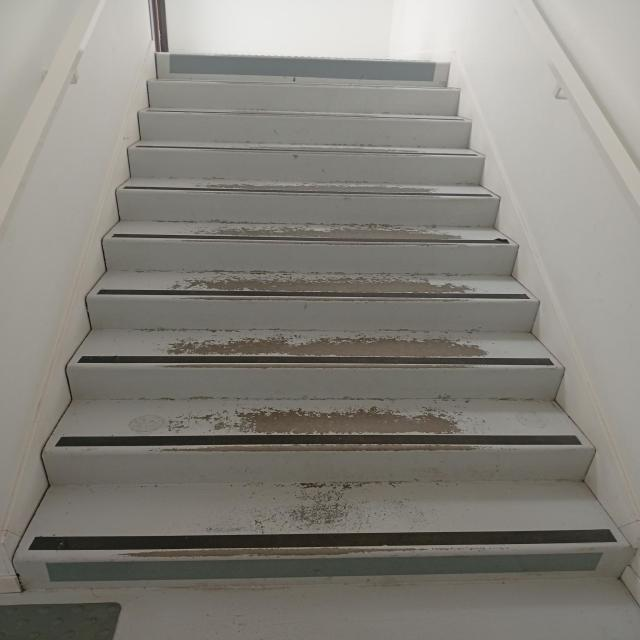Stairs: (11, 173, 632, 618)
